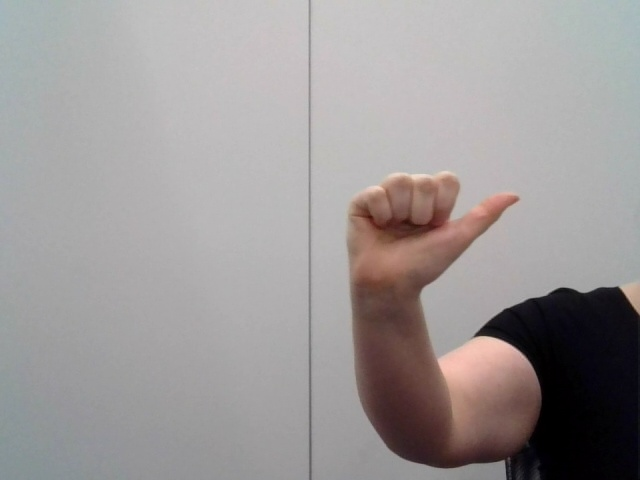left: (331, 159, 535, 308)
